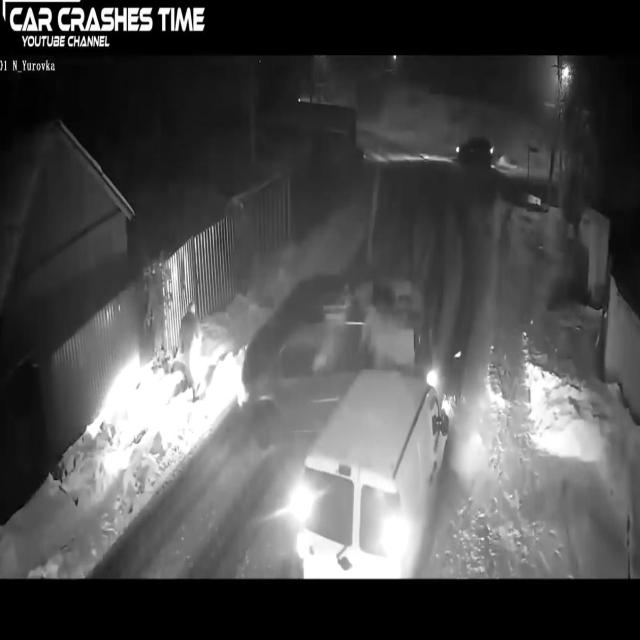accident: (239, 263, 453, 579)
